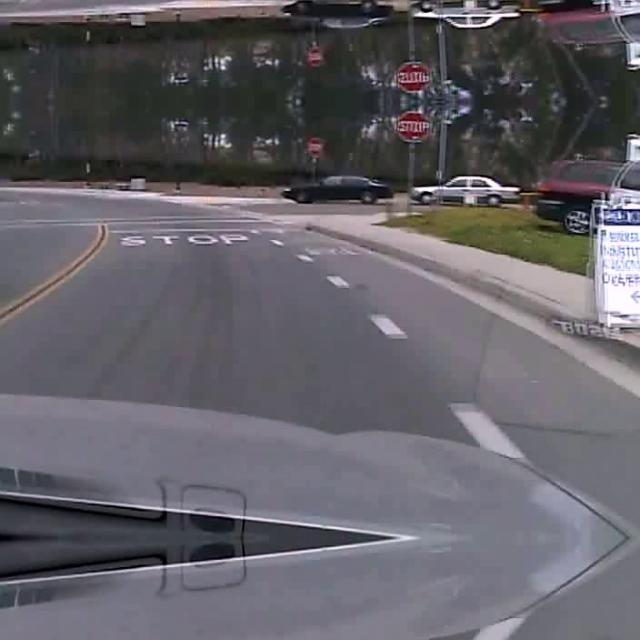stop: (396, 110, 429, 142), (396, 60, 429, 92), (306, 136, 322, 156), (306, 46, 322, 66)
